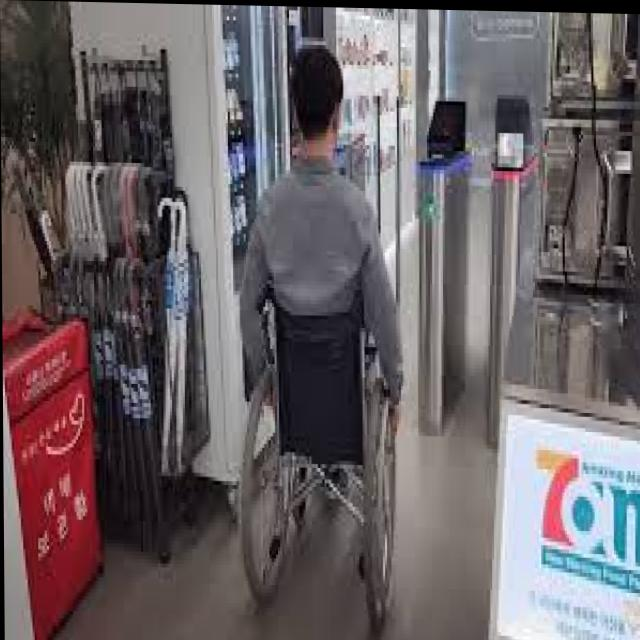wheelchair: (237, 43, 405, 628)
